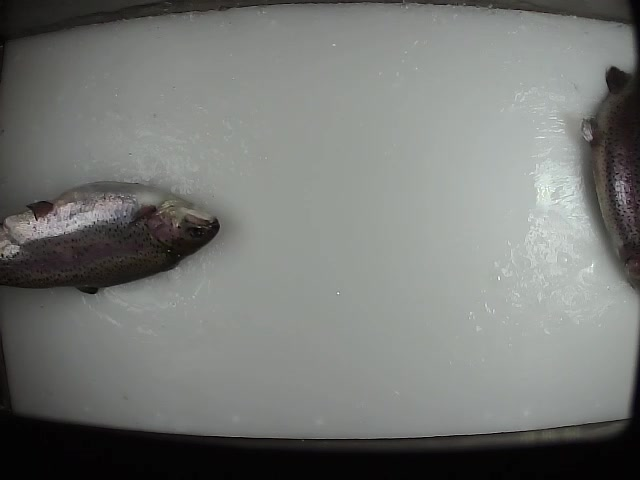fish: (1, 179, 222, 298), (577, 60, 640, 303)
